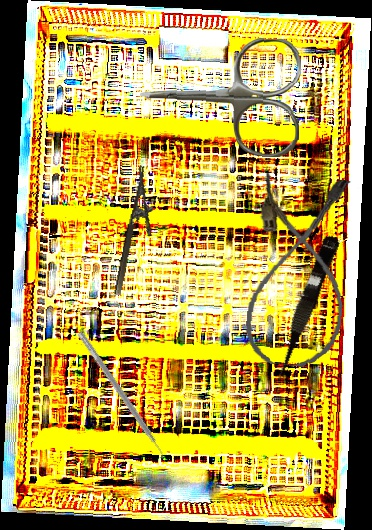Cannula: (242, 171, 356, 371)
Iris Scissors: (137, 34, 303, 158)
Micro Scissor: (266, 232, 342, 386)
Needle Holder: (112, 164, 165, 300)
Spatula Surgical: (71, 330, 170, 463)
